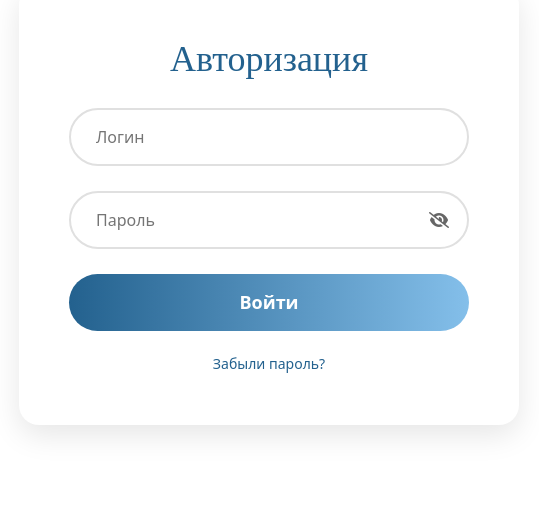
Login Component › should show error message on failed login
The image size is (539, 529).
In the field with placeholder "Логин": (269,137) top-left (69, 108), bottom-right (469, 166), type "testuser"
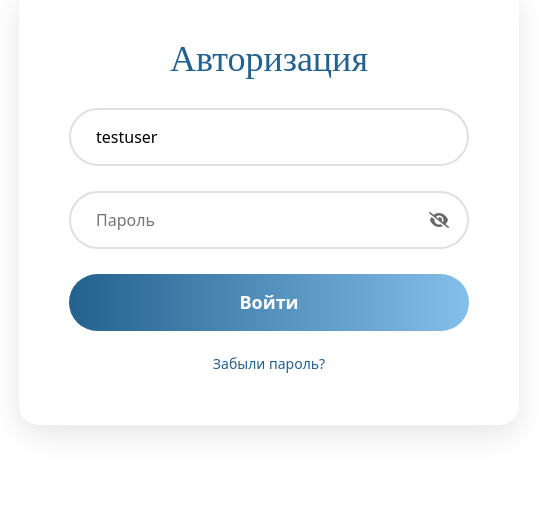
In the password field with placeholder "Пароль": (269,220) top-left (69, 191), bottom-right (469, 249), type "wrongpass"
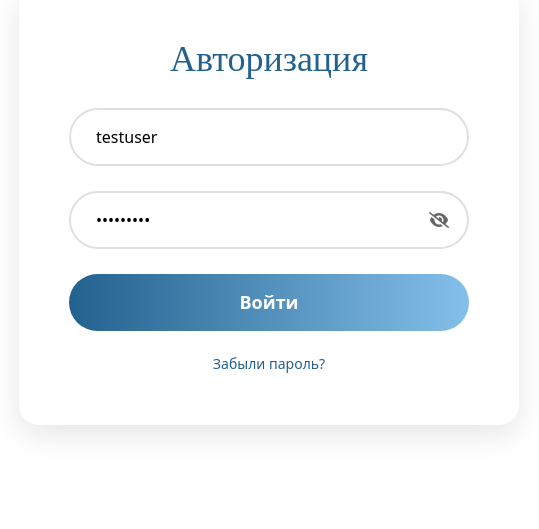
Click the button "Войти": (269,303) top-left (69, 274), bottom-right (469, 331)
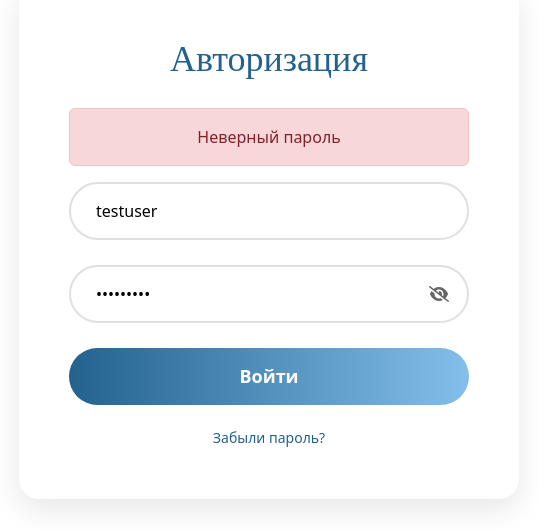
Check: the text "Неверный пароль" is shown, box top-left (69, 108), bottom-right (469, 166)
